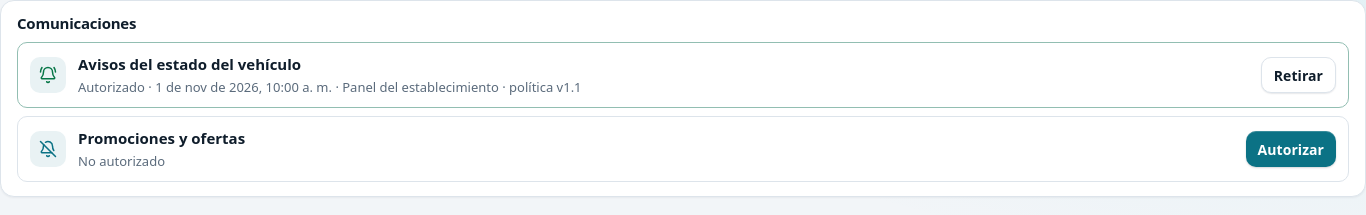
Scenario: perfil del cliente: estado, cambio y evidencia › CA3: retirar desde el panel actualiza el estado y avisa
Click the button with aria-label "Retirar: Avisos del estado del vehículo" at (1298, 75), box top-left (1261, 57), bottom-right (1336, 93)
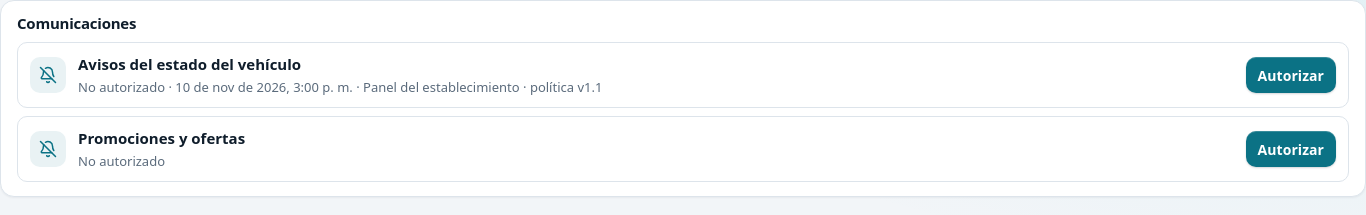
Now the button with aria-label "Autorizar: Avisos del estado del vehículo" is shown, box top-left (1246, 57), bottom-right (1336, 93)
